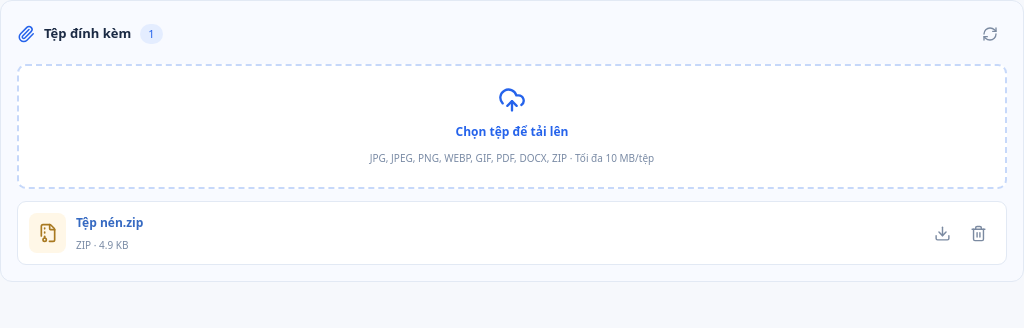
Task attachment management › shows a safe toast on download failure and re-enables retry
Expected: the file field named "Chọn tệp đính kèm" is enabled, left=0, top=85, right=1023, bottom=127
Click the button named "Tải xuống Tệp nén.zip": x=942, y=233 left=925, top=216, right=959, bottom=250
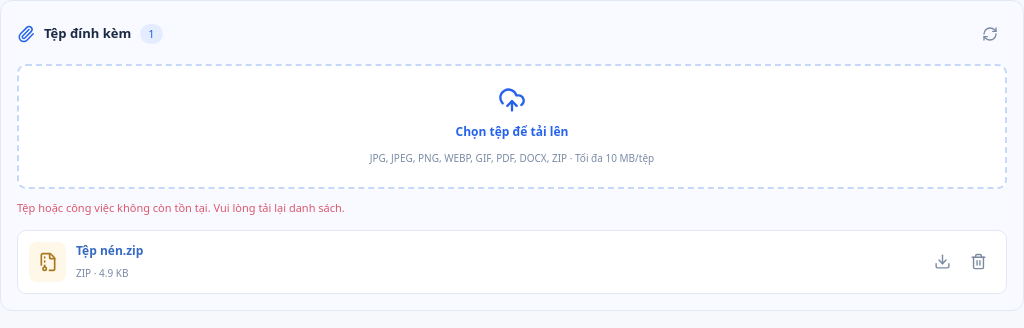
Result: the message shows "không còn tồn tại" at left=17, top=200, right=345, bottom=215
